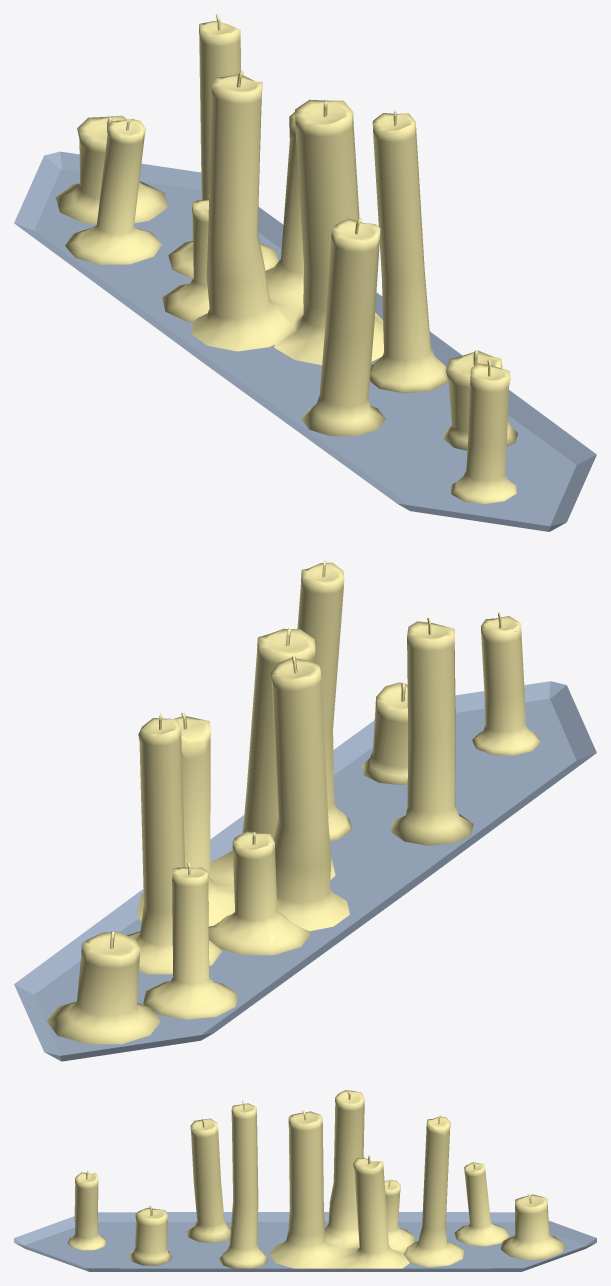
File: Candles.fbx
3 renders of one model, top to bottom at view 1: azimuth 30°, elevation 25°; view 2: azimuth 150°, elevation 25°; view 3: azimuth 270°, elevation 25°, orthographic. The views are drawn at different scales.
Visible parts, largest first — view 1: Candles_Tray; view 2: Candles_Tray; view 3: Candles_Tray.
Boxes of the visible parts, bbox=[...] form: Candles_Tray: bbox=[14, 14, 596, 531]; Candles_Tray: bbox=[14, 560, 596, 1061]; Candles_Tray: bbox=[14, 1090, 596, 1271].
Bounding box in the file's own units: 29.44 × 38.12 × 128.
1 material, 1 textured.
